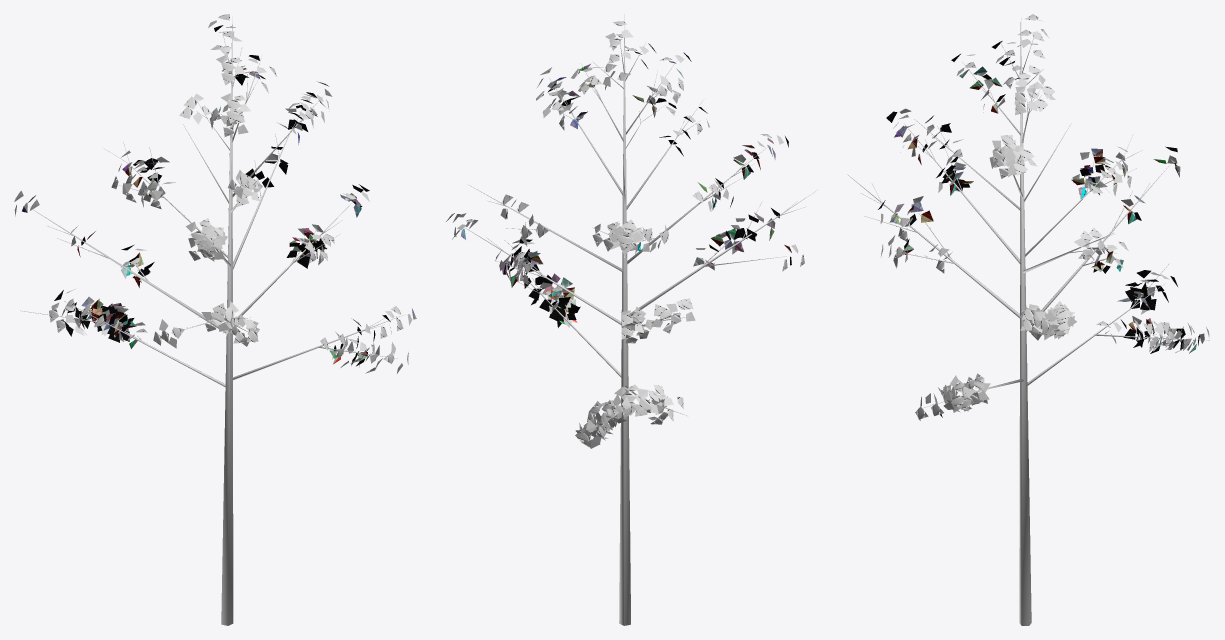
The picture shows the model from 3 angles, left to right: view 1: azimuth 30°, elevation 25°; view 2: azimuth 150°, elevation 25°; view 3: azimuth 270°, elevation 25°; orthographic projection.
Bounding box in the file's own units: 0.4919 × 0.95 × 0.5121.
